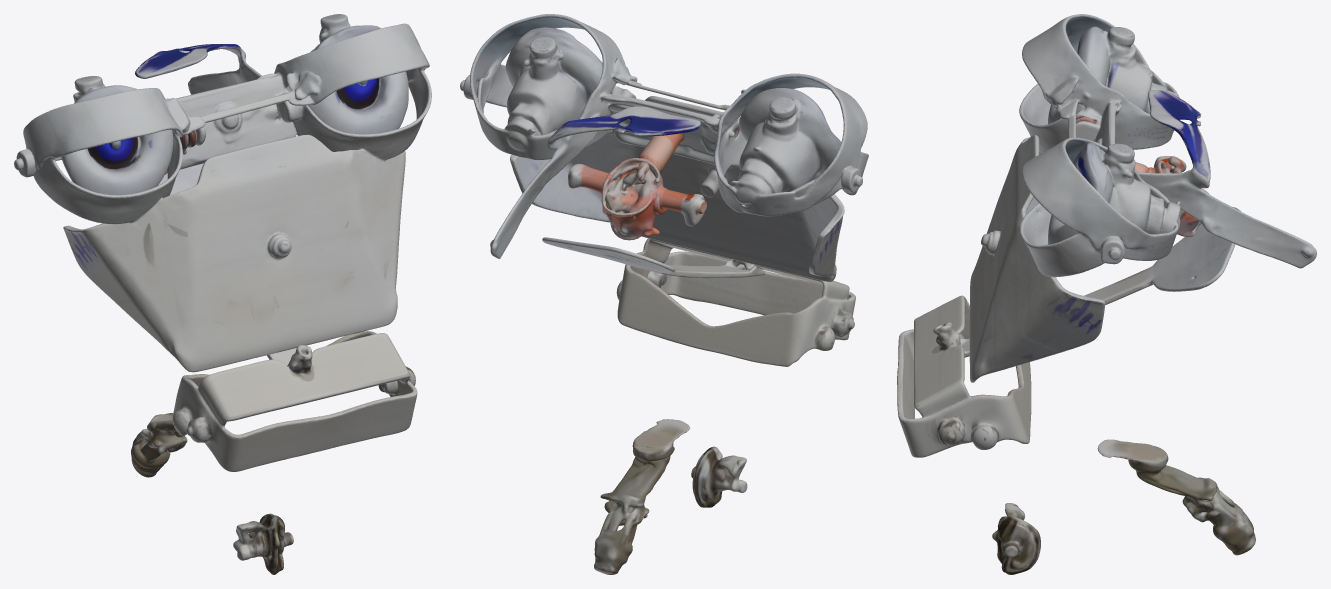
The model's file is Brutus-1.glb.
3 renders of one model, left to right at view 1: azimuth 30°, elevation 25°; view 2: azimuth 150°, elevation 25°; view 3: azimuth 270°, elevation 25°, orthographic. The views are drawn at different scales.
Visible parts, largest first — view 1: tripo_node_81569d07-29cc-4f9a-bdf1-88dae0a47d34; view 2: tripo_node_81569d07-29cc-4f9a-bdf1-88dae0a47d34; view 3: tripo_node_81569d07-29cc-4f9a-bdf1-88dae0a47d34.
Part boxes in pixels (left/top/right/bottom): tripo_node_81569d07-29cc-4f9a-bdf1-88dae0a47d34: left=14, top=14, right=431, bottom=574; tripo_node_81569d07-29cc-4f9a-bdf1-88dae0a47d34: left=460, top=14, right=868, bottom=574; tripo_node_81569d07-29cc-4f9a-bdf1-88dae0a47d34: left=897, top=14, right=1316, bottom=574.
Bounding box in the file's own units: 0.8693 × 1 × 0.7799.
Materials: 1 (1 with a texture image).
